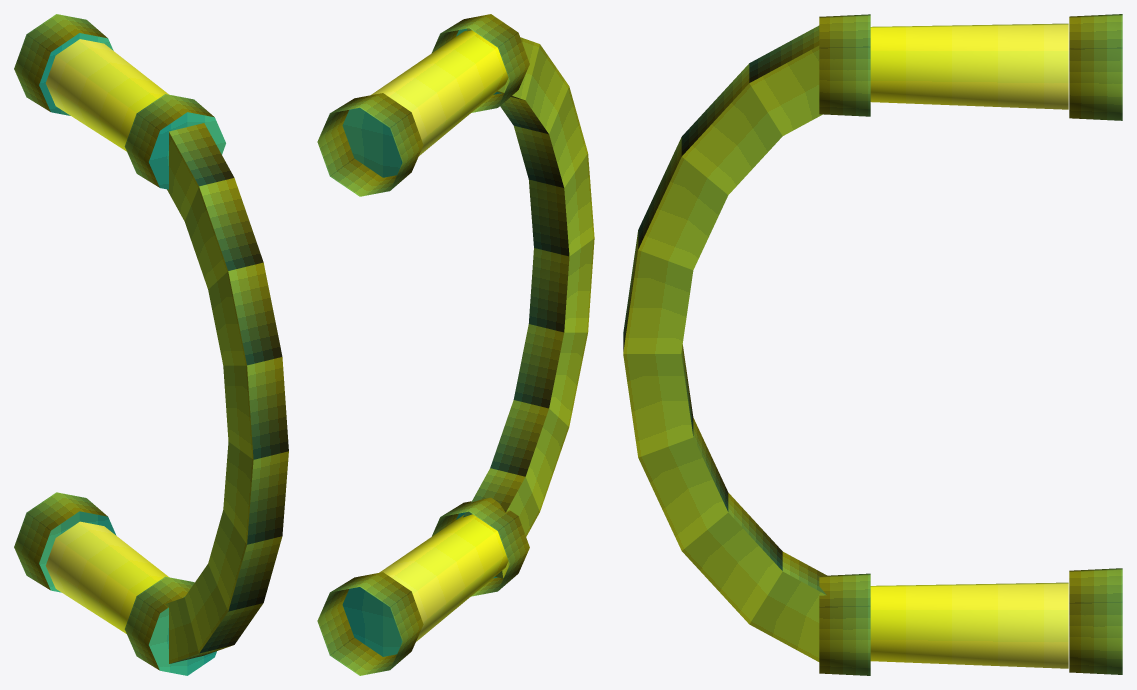
Rendered from Archway1.OBJ.
3 renders of one model, left to right at view 1: azimuth 30°, elevation 25°; view 2: azimuth 150°, elevation 25°; view 3: azimuth 270°, elevation 25°, orthographic. The views are drawn at different scales.
Visible parts, largest first — view 1: Archway1; view 2: Archway1; view 3: Archway1.
Boxes of the visible parts, x1,y1,x2,y2 form: Archway1: (14, 14, 288, 675); Archway1: (317, 14, 594, 675); Archway1: (623, 14, 1122, 675).
Size of the model in its own units: 133 by 848 by 583.
Materials: 1 (1 with a texture image).
